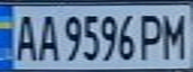5: (78, 11, 100, 62)
6: (115, 11, 142, 62)
9: (100, 11, 121, 62), (60, 11, 81, 62)
A: (9, 10, 39, 62), (33, 10, 60, 62)
M: (157, 9, 190, 60)
P: (136, 10, 166, 61)
